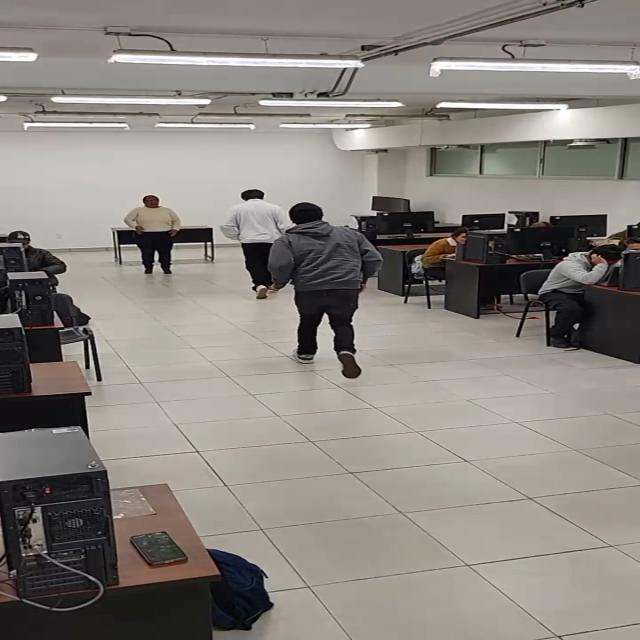Persona: (268, 202, 386, 380), (221, 190, 290, 300), (124, 194, 183, 275)
